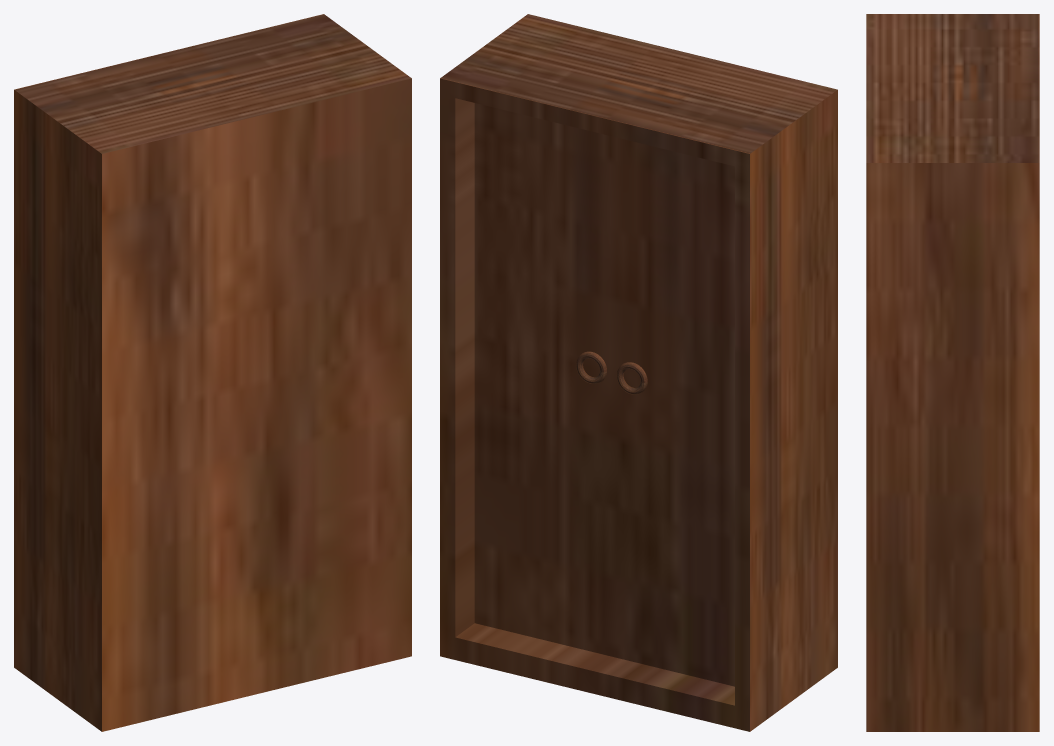
3 renders of one model, left to right at view 1: azimuth 30°, elevation 25°; view 2: azimuth 150°, elevation 25°; view 3: azimuth 270°, elevation 25°, orthographic.
Visible parts, largest first — view 1: Cube; view 2: Cube; view 3: Cube.
Boxes of the visible parts, x1,y1,x2,y2 form: Cube: (14, 14, 411, 731); Cube: (440, 14, 837, 731); Cube: (866, 14, 1039, 731).
Bounding box in the file's own units: 8.12 × 14.47 × 3.99.
Materials: 1 (1 with a texture image).
